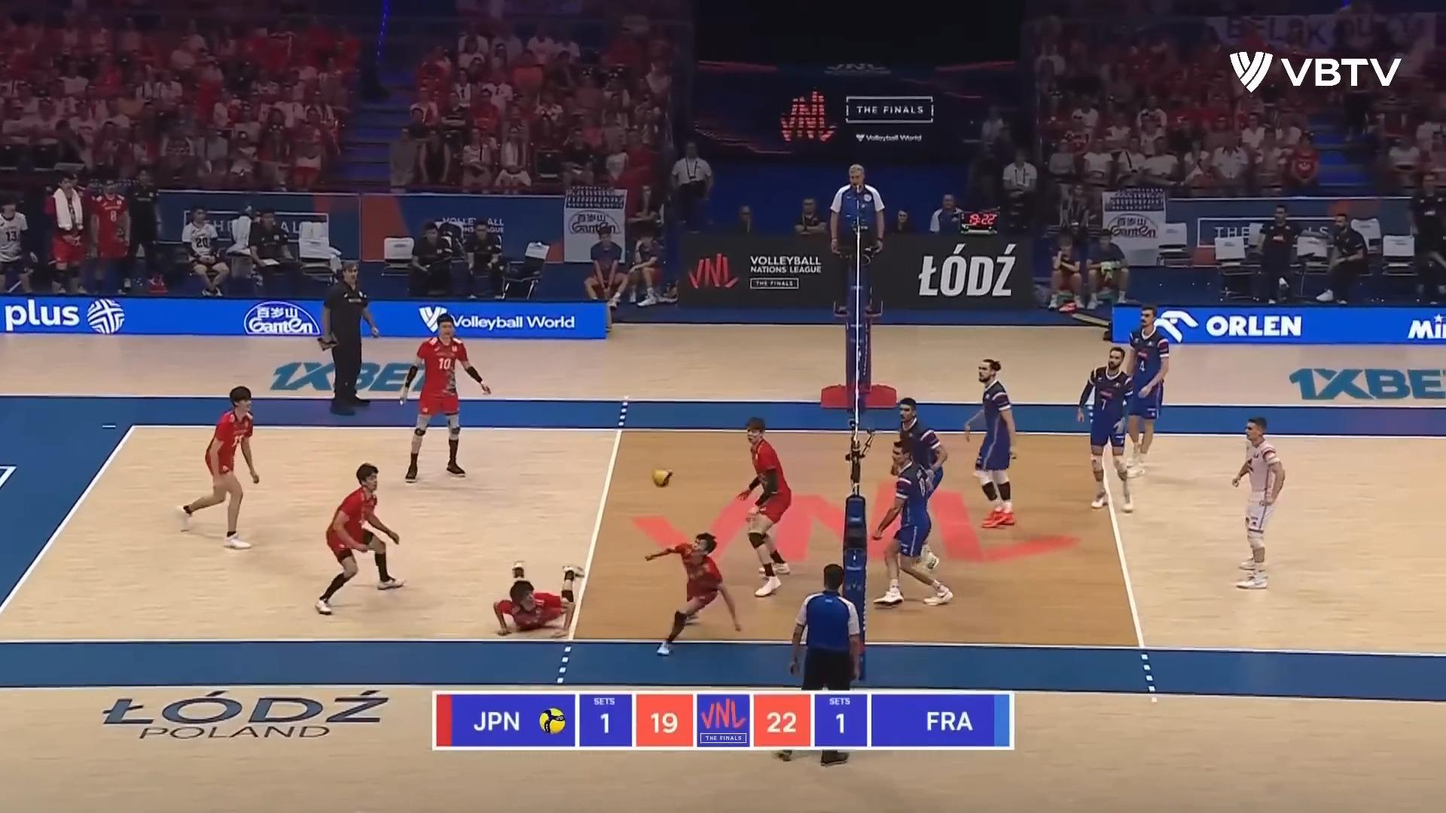ball: (653, 469, 673, 488)
